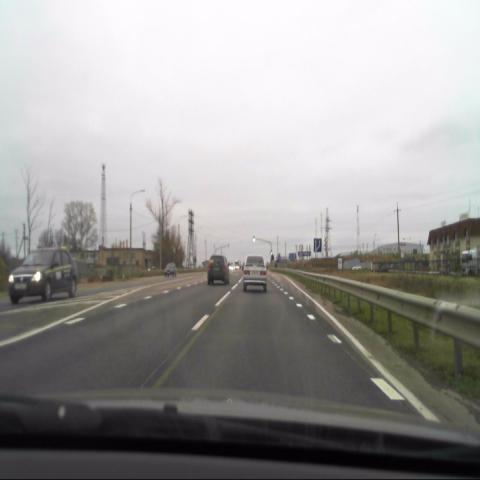5_15_3: (314, 236, 322, 253)
